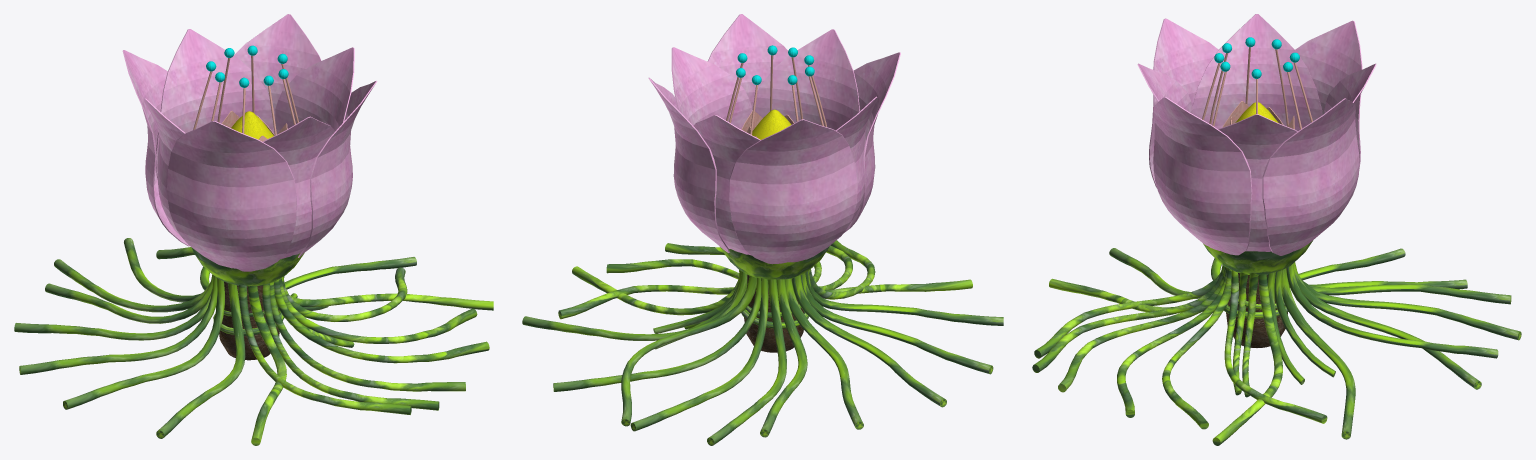
Rendered from SpiderFlower.fbx.
3 views of the same model, side by side, from view 1: azimuth 30°, elevation 25°; view 2: azimuth 150°, elevation 25°; view 3: azimuth 270°, elevation 25° (orthographic). The views are drawn at different scales.
Visible parts, largest first — view 1: pasted__pCylinder1 (×2), pasted__pCylinder3 (×9), pasted__pasted__pasted__pCylinder1 (×3), pasted__pasted__pCylinder1 (×2), pasted__pasted__pCylinder3 (×5), pCylinder1, pasted__pasted__pasted__pCylinder3 (×2), pSphere1, pCylinder2; view 2: pasted__pasted__pCylinder1 (×2), pasted__pasted__pasted__pCylinder1 (×3), pasted__pCylinder3 (×9), pasted__pasted__pCylinder3 (×6), pasted__pCylinder1 (×2), pCylinder1, pasted__pasted__pasted__pCylinder3 (×2), pSphere1, pCylinder3, pCylinder2; view 3: pasted__pasted__pasted__pCylinder1 (×3), pasted__pCylinder1 (×2), pasted__pasted__pCylinder3 (×7), pasted__pCylinder3 (×7), pasted__pasted__pasted__pCylinder3 (×4), pasted__pasted__pCylinder1 (×2), pCylinder1, pCylinder3, pSphere1, pCylinder2, pasted__pasted__pasted__pasted__pCylinder3.
Part boxes in pixels (x1,y1,x2,y2): pasted__pCylinder1 (×2): (144,98,296,271); pasted__pCylinder3 (×9): (14,259,493,445); pasted__pasted__pasted__pCylinder1 (×3): (234,14,376,258); pasted__pasted__pCylinder1 (×2): (122,29,274,246); pasted__pasted__pCylinder3 (×5): (124,238,489,438); pCylinder1: (275,47,354,134); pasted__pasted__pasted__pCylinder3 (×2): (282,257,416,321); pSphere1: (191,111,304,286); pCylinder2: (219,281,279,360); pasted__pasted__pCylinder1 (×2): (694,115,857,264); pasted__pasted__pasted__pCylinder1 (×3): (648,14,859,252); pasted__pCylinder3 (×9): (572,240,993,445); pasted__pasted__pCylinder3 (×6): (553,243,1003,431); pasted__pCylinder1 (×2): (836,52,900,233); pCylinder1: (671,47,752,129); pasted__pasted__pasted__pCylinder3 (×2): (522,271,747,340); pSphere1: (720,109,829,279); pCylinder3: (621,275,756,426); pCylinder2: (744,274,804,352); pasted__pasted__pasted__pCylinder1 (×3): (1137,63,1359,255); pasted__pCylinder1 (×2): (1149,14,1322,187); pasted__pasted__pCylinder3 (×7): (1058,248,1521,429); pasted__pCylinder3 (×7): (1032,248,1511,445); pasted__pasted__pasted__pCylinder3 (×4): (1224,268,1355,439); pasted__pasted__pCylinder1 (×2): (1295,20,1376,168); pCylinder1: (1218,114,1297,251); pCylinder3: (1287,264,1498,358); pSphere1: (1203,102,1312,274); pCylinder2: (1226,268,1289,347); pasted__pasted__pasted__pasted__pCylinder3: (1242,273,1258,397).
Size of the model in its own units: 11.52 by 7.72 by 11.5.
Materials: 22 (14 with a texture image).
